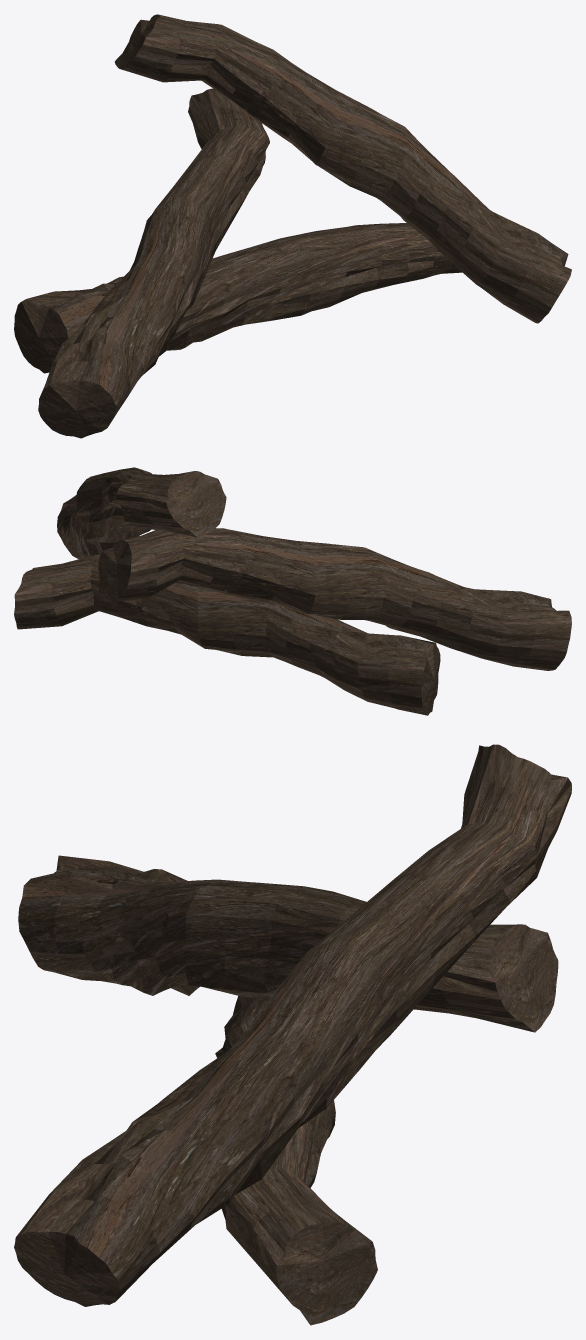
The model's file is wood.fbx.
3 renders of one model, top to bottom at view 1: azimuth 30°, elevation 25°; view 2: azimuth 150°, elevation 25°; view 3: azimuth 270°, elevation 25°, orthographic. The views are drawn at different scales.
Visible parts, largest first — view 1: Cylinder.002, Cylinder.001, Cylinder; view 2: Cylinder.001, Cylinder, Cylinder.002; view 3: Cylinder.002, Cylinder.001, Cylinder.
Part boxes in pixels (x1,y1,x2,y2): Cylinder.002: (114, 14, 571, 323); Cylinder.001: (38, 88, 269, 438); Cylinder: (14, 223, 462, 373); Cylinder.001: (96, 528, 571, 670); Cylinder: (14, 555, 440, 715); Cylinder.002: (57, 467, 226, 558); Cylinder.002: (14, 744, 571, 1306); Cylinder.001: (18, 855, 558, 1032); Cylinder: (215, 995, 377, 1325).
Bounding box in the file's own units: 53.75 × 25.78 × 32.54.
